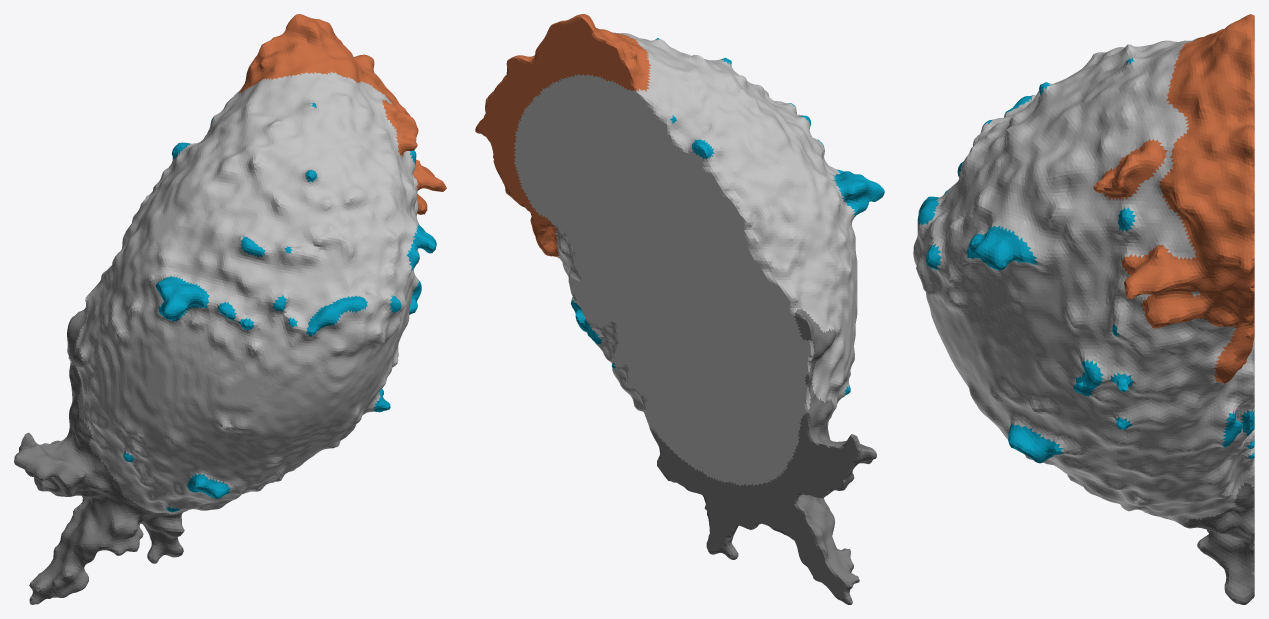
The picture shows the model from 3 angles, left to right: view 1: azimuth 30°, elevation 25°; view 2: azimuth 150°, elevation 25°; view 3: azimuth 270°, elevation 25°; orthographic projection. The views are drawn at different scales.
Size of the model in its own units: 124 by 157 by 70.08.
